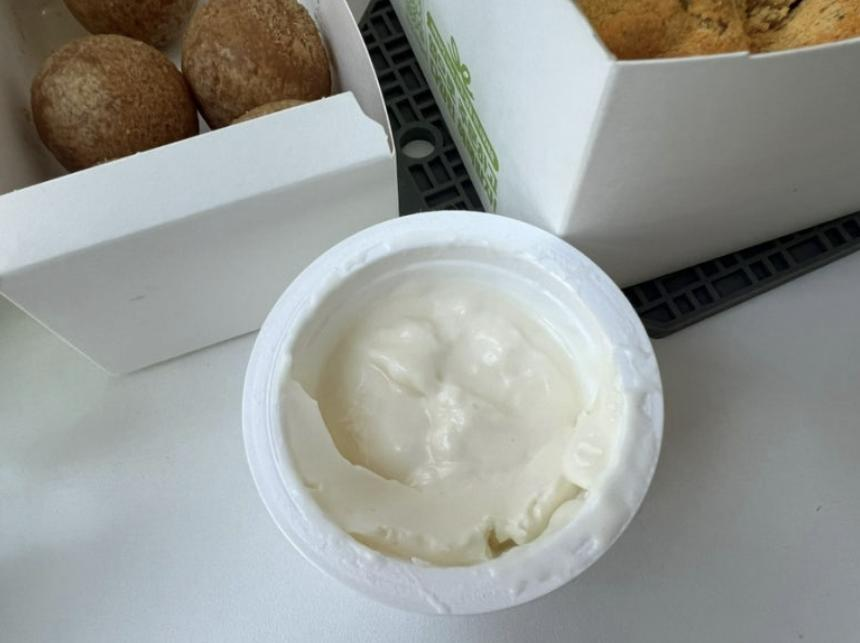Lunch Box: (0, 0, 397, 372), (391, 0, 859, 283)
cup: (242, 212, 663, 614)
